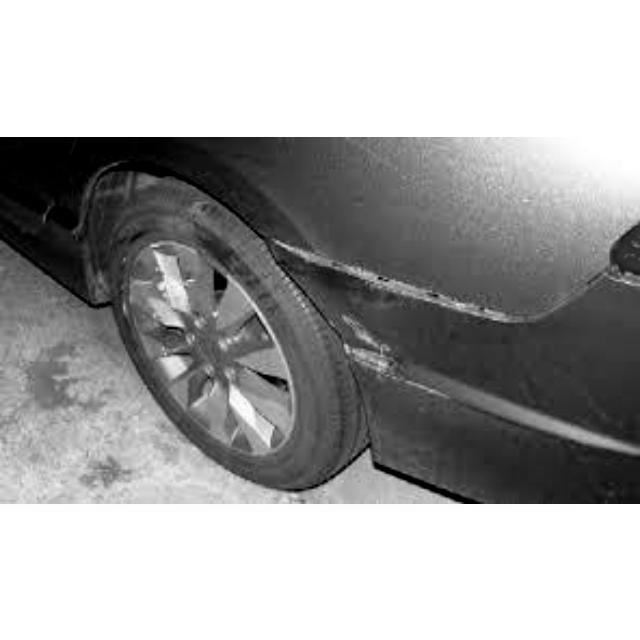quaterpanel-dent: (294, 270, 516, 466)
